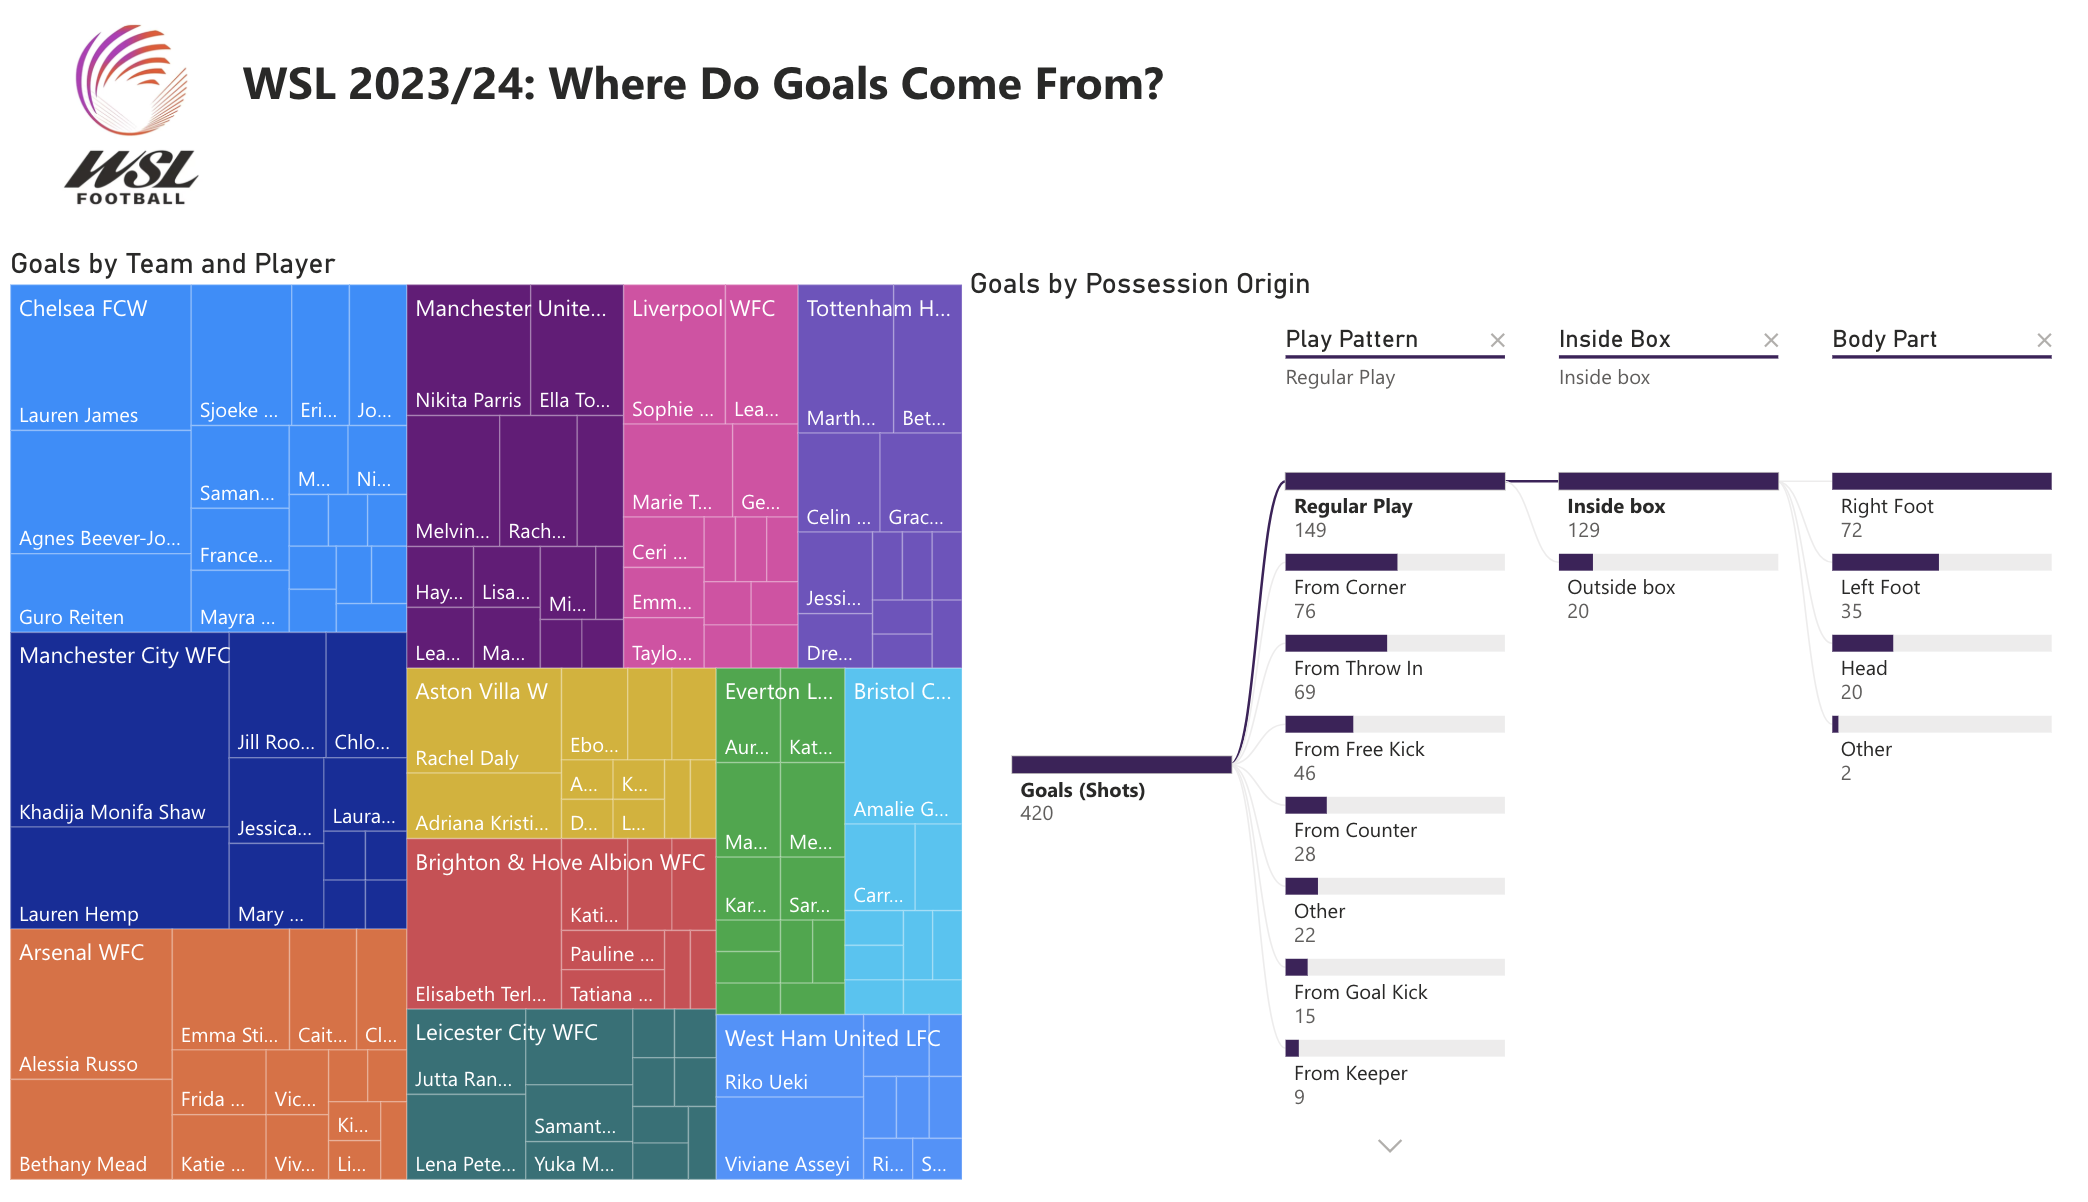

The dashboard page shown, as its layout file describes it:
{"tool":"powerbi","page":{"name":"Root Cause","canvas":[1280,720],"ordinal":4},"visuals":[{"type":"image","box":[52,8.8,83.5,125.2],"z":0},{"type":"textbox","box":[153.5,28.8,724.1,60.1],"z":1000},{"type":"decompositionTreeVisual","title":"Goals by Possession Origin","fields":{"Analyze":["metrics.Goals (Shots)"],"ExplainBy":["fact_shots.play_pattern","fact_shots.inside_box","fact_shots.body_part"]},"box":[590.4,163.8,673.1,543.8],"z":2000},{"type":"treemap","title":"Goals by Team and Player","fields":{"Details":["dim_player.player"],"Group":["dim_team.team_name"],"Values":["metrics.Total Goals"]},"box":[16.5,151.7,573.9,555.9],"z":3000}]}

Visuals, with their boxes in screenshot pixels (x1, y1, x2, y2), scaled from the page's 1280x720 canvas onto the 2088x1202 screenshot:
image: 85, 15, 221, 224
textbox: 250, 48, 1432, 148
"Goals by Possession Origin" decompositionTreeVisual: 963, 273, 2061, 1181
"Goals by Team and Player" treemap: 27, 253, 963, 1181
